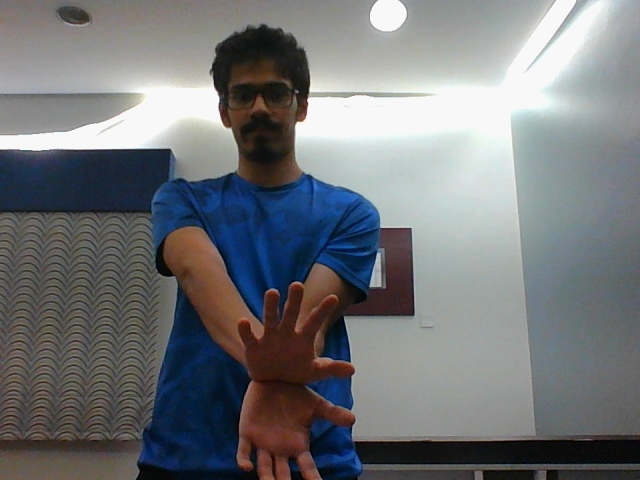blast: (230, 282, 360, 478)
